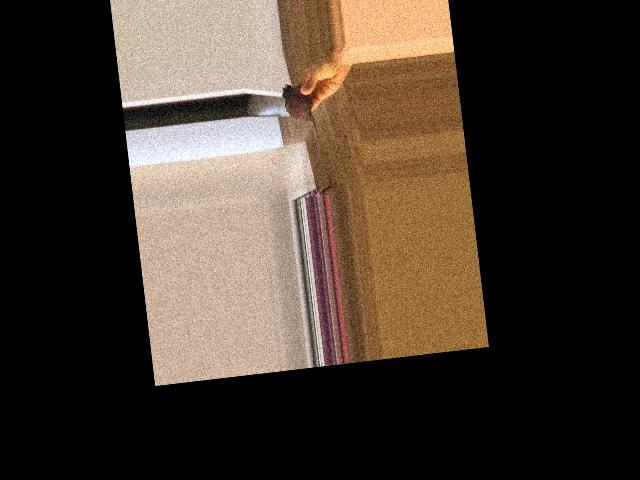beet: (281, 82, 319, 150)
